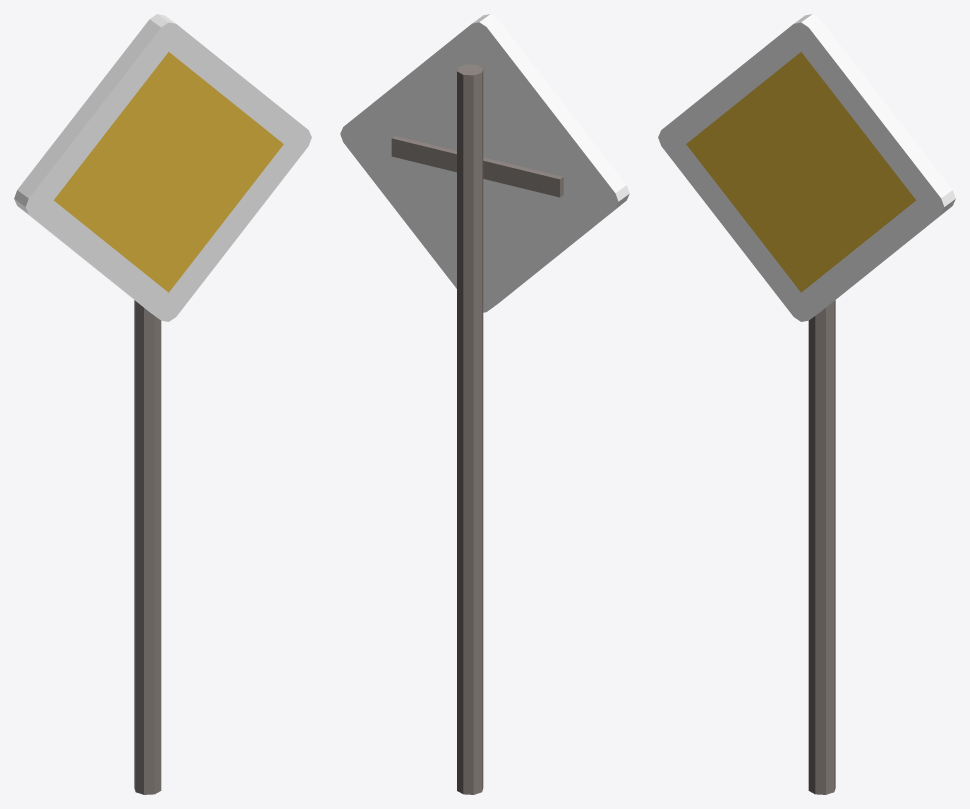
File: RoadSign_01.fbx
3 renders of one model, left to right at view 1: azimuth 30°, elevation 25°; view 2: azimuth 150°, elevation 25°; view 3: azimuth 330°, elevation 25°, orthographic. The views are drawn at different scales.
Visible parts, largest first — view 1: RoadSign_01; view 2: RoadSign_01; view 3: RoadSign_01.
Boxes of the visible parts, box(x1,y1,x2,y2) form: RoadSign_01: box(14, 14, 311, 794); RoadSign_01: box(340, 14, 629, 794); RoadSign_01: box(658, 14, 955, 794).
Size of the model in its own units: 1.43 by 3.72 by 0.2417.
